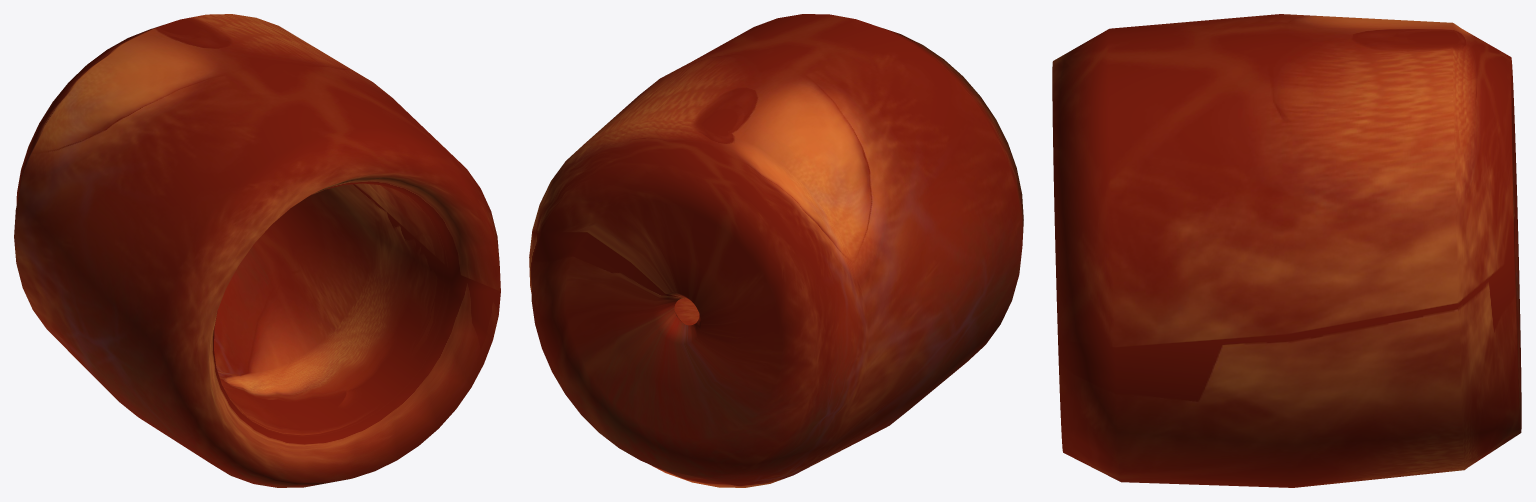
The model's file is Sphincter.fbx.
3 views of the same model, side by side, from view 1: azimuth 30°, elevation 25°; view 2: azimuth 150°, elevation 25°; view 3: azimuth 270°, elevation 25° (orthographic). The views are drawn at different scales.
Visible parts, largest first — view 1: pPipe1; view 2: pPipe1; view 3: pPipe1.
Part boxes in pixels (box(x1,y1,x2,y2)): pPipe1: box(14, 14, 500, 487); pPipe1: box(529, 14, 1023, 487); pPipe1: box(1052, 14, 1521, 487).
Size of the model in its own units: 8.31 by 8.31 by 8.25.
